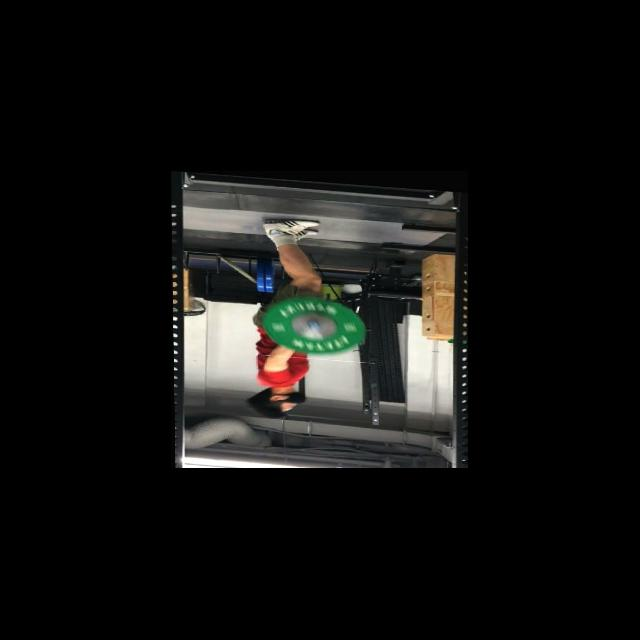barbell: (256, 291, 374, 360)
